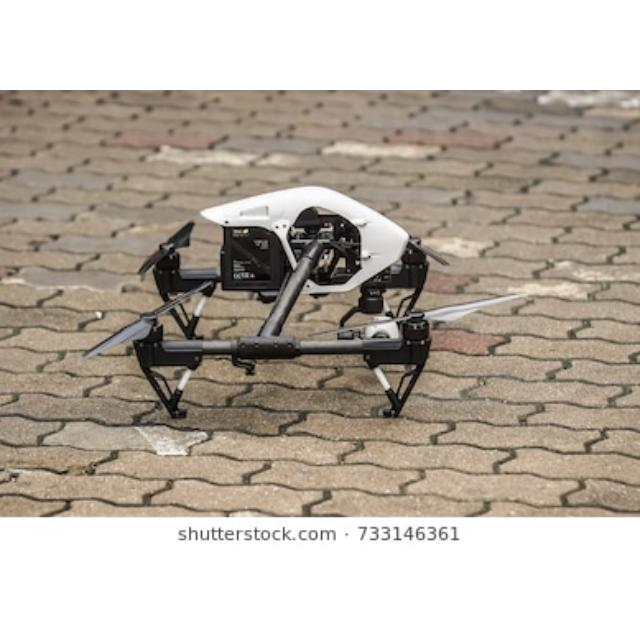Drones: (132, 184, 456, 392)
